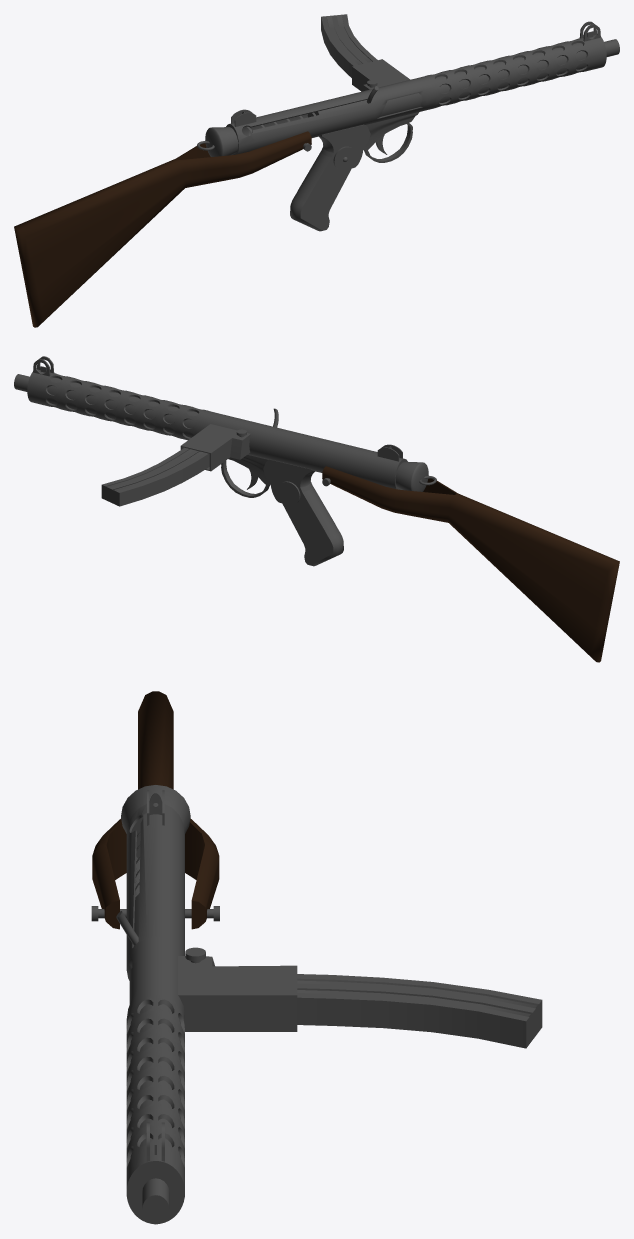
The picture shows the model from 3 angles, top to bottom: view 1: azimuth 30°, elevation 25°; view 2: azimuth 150°, elevation 25°; view 3: azimuth 270°, elevation 25°; orthographic projection. The views are drawn at different scales.
Visible parts, largest first — view 1: Madera_Culata_low, Metales_Canon_low, Metales_Ventilacion_low, Metales_Mango_low, Metales_Canon_Interno_low, Metales_Cargador_low, Metales_Cargador_Agarre_low, Metales_Detras_Detalle_low, Metales_Detalle_low; view 2: Madera_Culata_low, Metales_Canon_low, Metales_Ventilacion_low, Metales_Mango_low, Metales_Cargador_low, Metales_Cargador_Agarre_low, Metales_Canon_Interno_low, Metales_Detras_Detalle_low, Metales_Detalle_low, Metales_Detalle1_low; view 3: Metales_Cargador_low, Metales_Ventilacion_low, Metales_Canon_low, Madera_Culata_low, Metales_Cargador_Agarre_low, Metales_Canon_Interno_low, Metales_Detras_Detalle_low.
Part boxes in pixels (x1,y1,x2,y2): Madera_Culata_low: (14, 131, 311, 327); Metales_Canon_low: (226, 75, 435, 154); Metales_Ventilacion_low: (427, 34, 606, 108); Metales_Mango_low: (290, 124, 370, 231); Metales_Canon_Interno_low: (307, 39, 619, 117); Metales_Cargador_low: (321, 14, 377, 77); Metales_Cargador_Agarre_low: (352, 59, 409, 91); Metales_Detras_Detalle_low: (205, 127, 238, 156); Metales_Detalle_low: (363, 112, 419, 150); Madera_Culata_low: (322, 466, 619, 662); Metales_Canon_low: (198, 410, 407, 489); Metales_Ventilacion_low: (27, 369, 208, 440); Metales_Mango_low: (263, 459, 343, 566); Metales_Cargador_low: (101, 447, 209, 506); Metales_Cargador_Agarre_low: (180, 424, 250, 471); Metales_Canon_Interno_low: (14, 374, 198, 437); Metales_Detras_Detalle_low: (395, 462, 428, 491); Metales_Detalle_low: (228, 455, 270, 485); Metales_Detalle1_low: (277, 481, 300, 505); Metales_Cargador_low: (297, 974, 542, 1048); Metales_Ventilacion_low: (126, 994, 184, 1223); Metales_Canon_low: (126, 803, 184, 1021); Madera_Culata_low: (92, 691, 219, 929); Metales_Cargador_Agarre_low: (178, 956, 297, 1031); Metales_Canon_Interno_low: (129, 893, 180, 1224); Metales_Detras_Detalle_low: (121, 785, 190, 852).
Bounding box in the file's own units: 56.46 × 15.06 × 18.34.
